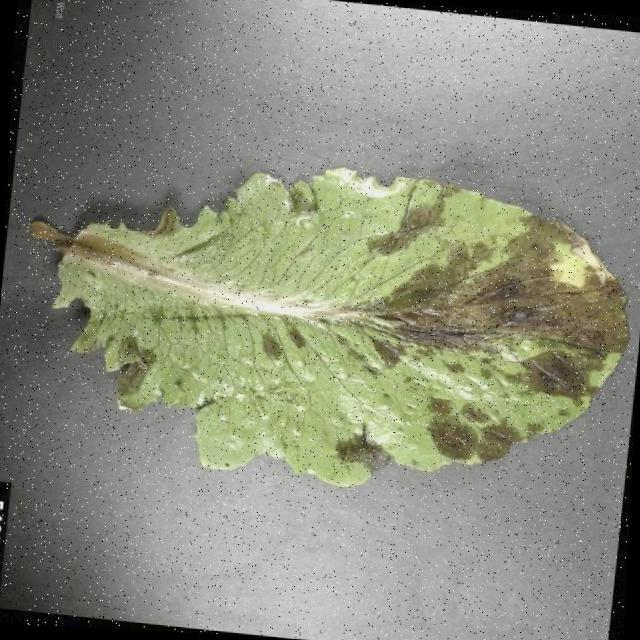Septoria_Blight: (56, 157, 633, 472)
